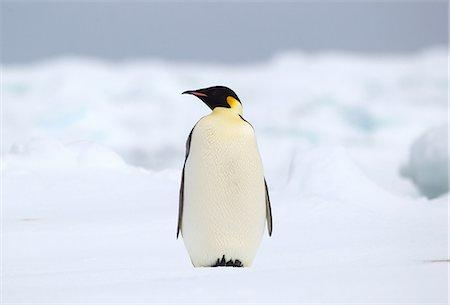emporer: (168, 76, 284, 274)
